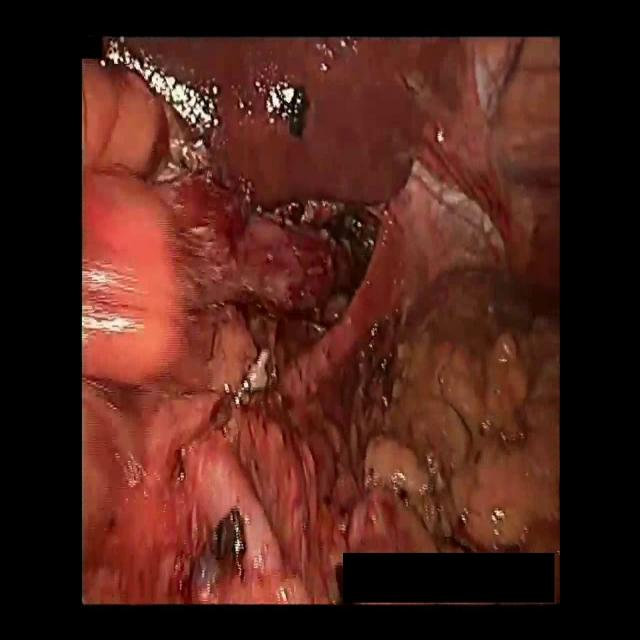surgical-area: (84, 38, 562, 604)
